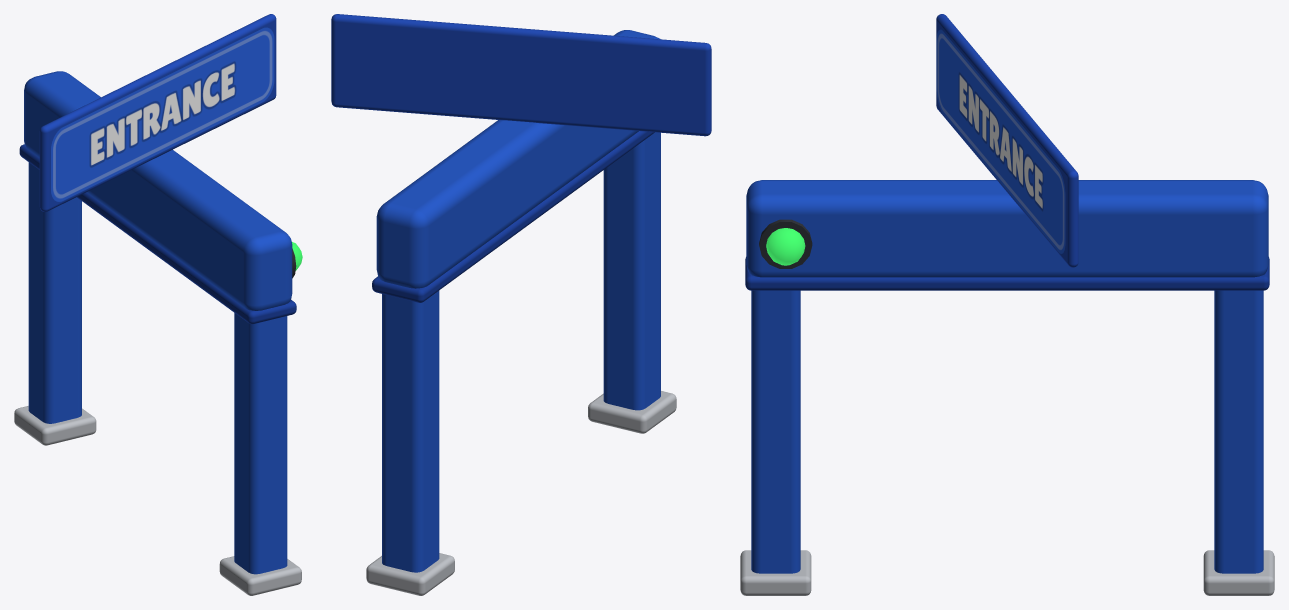
Rendered from gate_entrance.glb.
The picture shows the model from 3 angles, left to right: view 1: azimuth 30°, elevation 25°; view 2: azimuth 150°, elevation 25°; view 3: azimuth 270°, elevation 25°; orthographic projection. The views are drawn at different scales.
Parts seen in each view (by area): view 1: Gate_entrance; view 2: Gate_entrance; view 3: Gate_entrance, Lamp.
Boxes of the visible parts, x1,y1,x2,y2 form: Gate_entrance: (14,14,301,595); Gate_entrance: (331,14,711,595); Gate_entrance: (740,14,1274,595); Lamp: (766,228,805,265).
Bounding box in the file's own units: 3.87 × 5.49 × 5.42.
5 materials, 1 textured.
